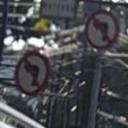NoVirarEsquerda: (14, 51, 50, 95), (84, 10, 121, 52)
